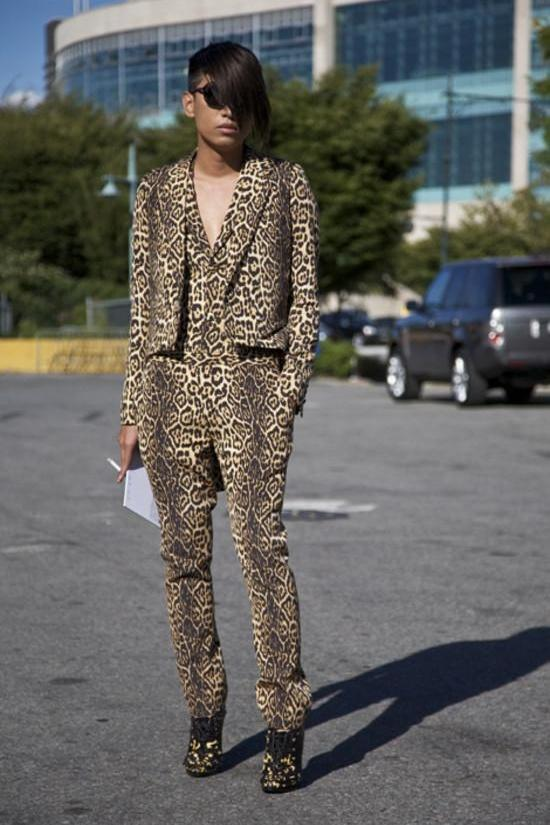pants: (141, 354, 310, 731)
sweater: (123, 153, 318, 423)
